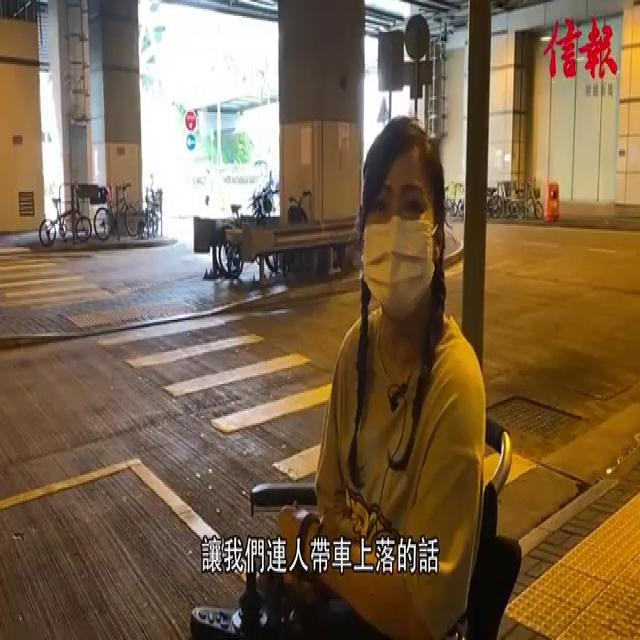wheelchairs: (190, 383, 530, 640)
